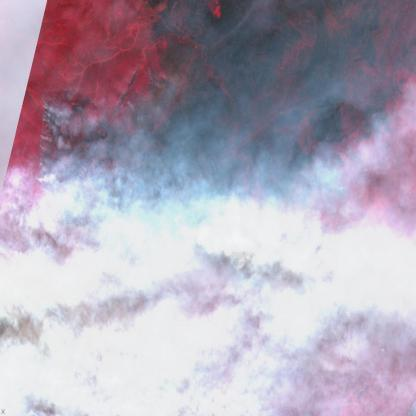fire: (35, 89, 242, 272)
